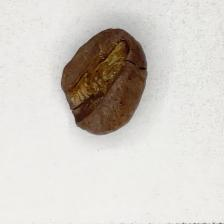NG: (61, 40, 130, 126)
